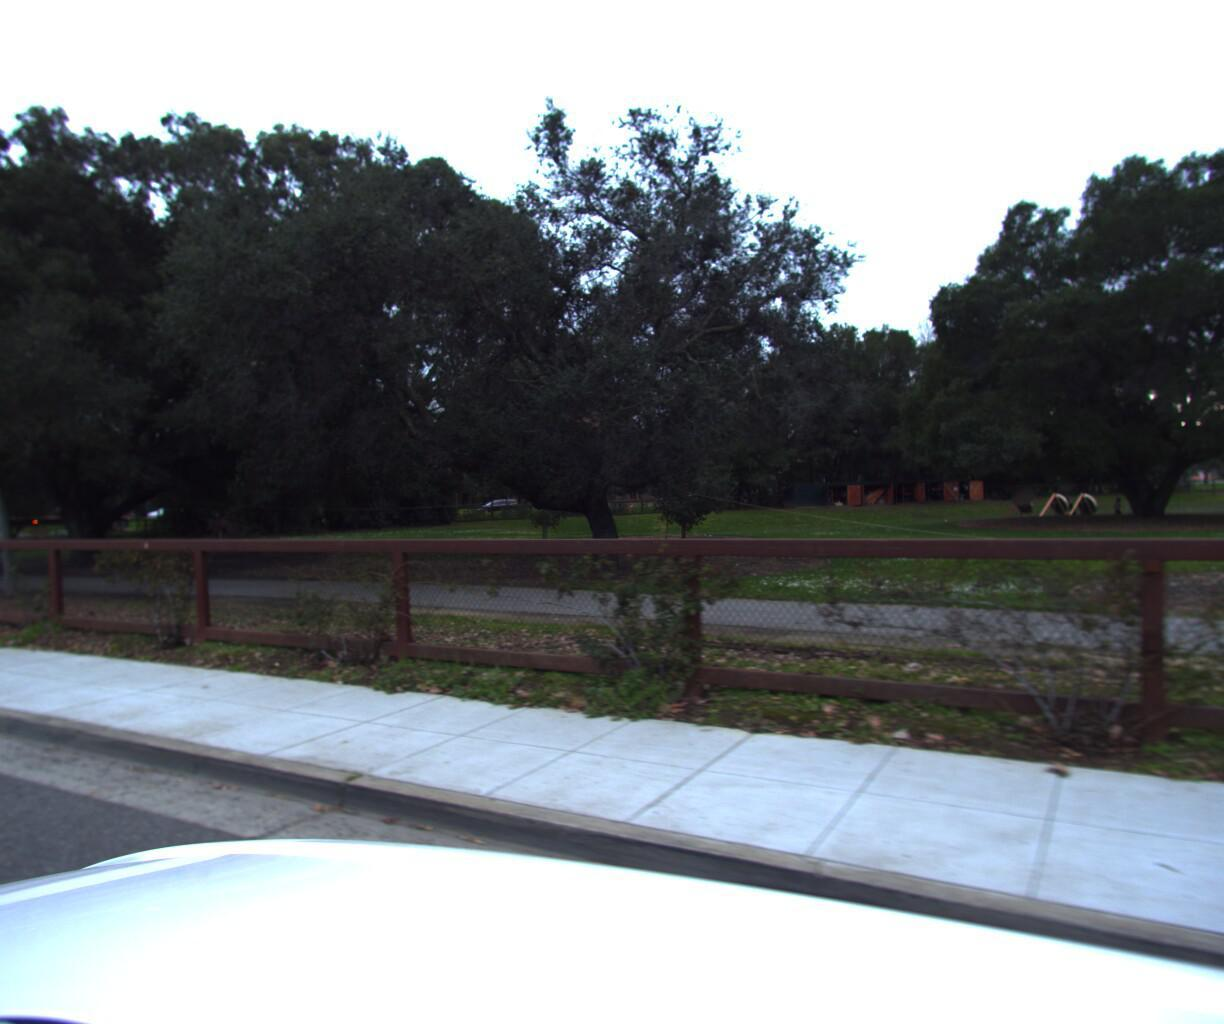truck: (0, 492, 132, 545)
